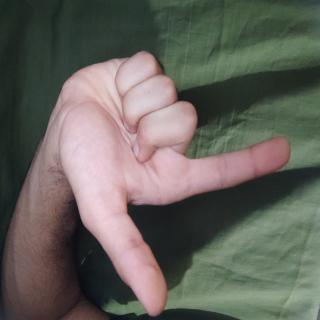LAAM: (30, 32, 239, 320)
